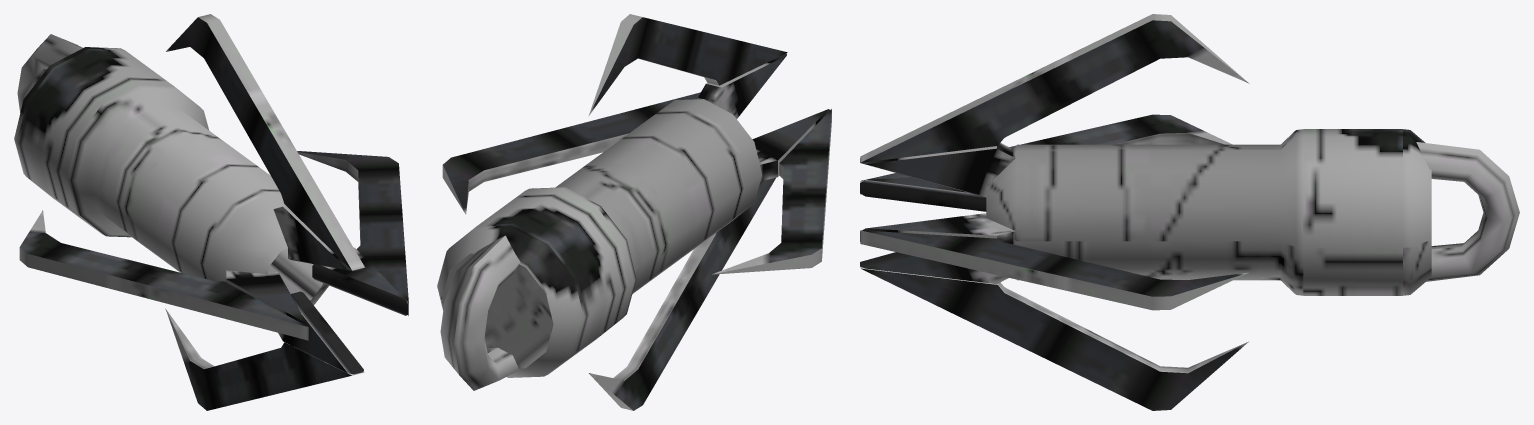
The model's file is widowmaker_hook.obj.
3 views of the same model, side by side, from view 1: azimuth 30°, elevation 25°; view 2: azimuth 150°, elevation 25°; view 3: azimuth 270°, elevation 25° (orthographic).
Parts seen in each view (by area): view 1: Submesh_0.255.80727DA4086DBF4B; view 2: Submesh_0.255.80727DA4086DBF4B; view 3: Submesh_0.255.80727DA4086DBF4B.
Boxes of the visible parts, x1=… form: Submesh_0.255.80727DA4086DBF4B: x1=14, y1=14, x2=408, y2=410; Submesh_0.255.80727DA4086DBF4B: x1=437, y1=14, x2=831, y2=410; Submesh_0.255.80727DA4086DBF4B: x1=860, y1=14, x2=1519, y2=410.
Size of the model in its own units: 0.2638 by 0.2638 by 0.4038.
